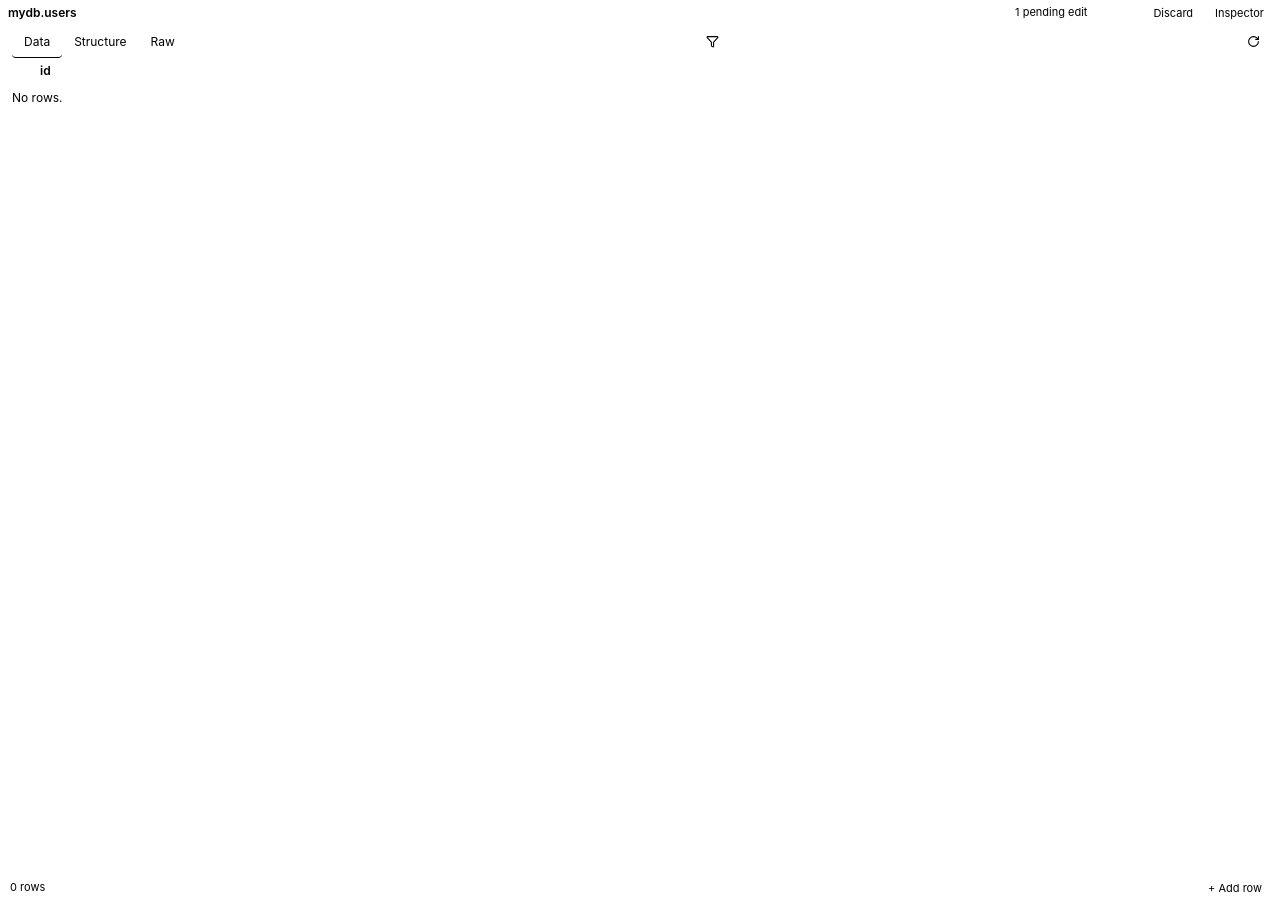
Test case: MysqlTableViewerTab — guarded refresh › cancelling the dialog leaves the buffer intact and does not refresh
Press r in the element named "users data"
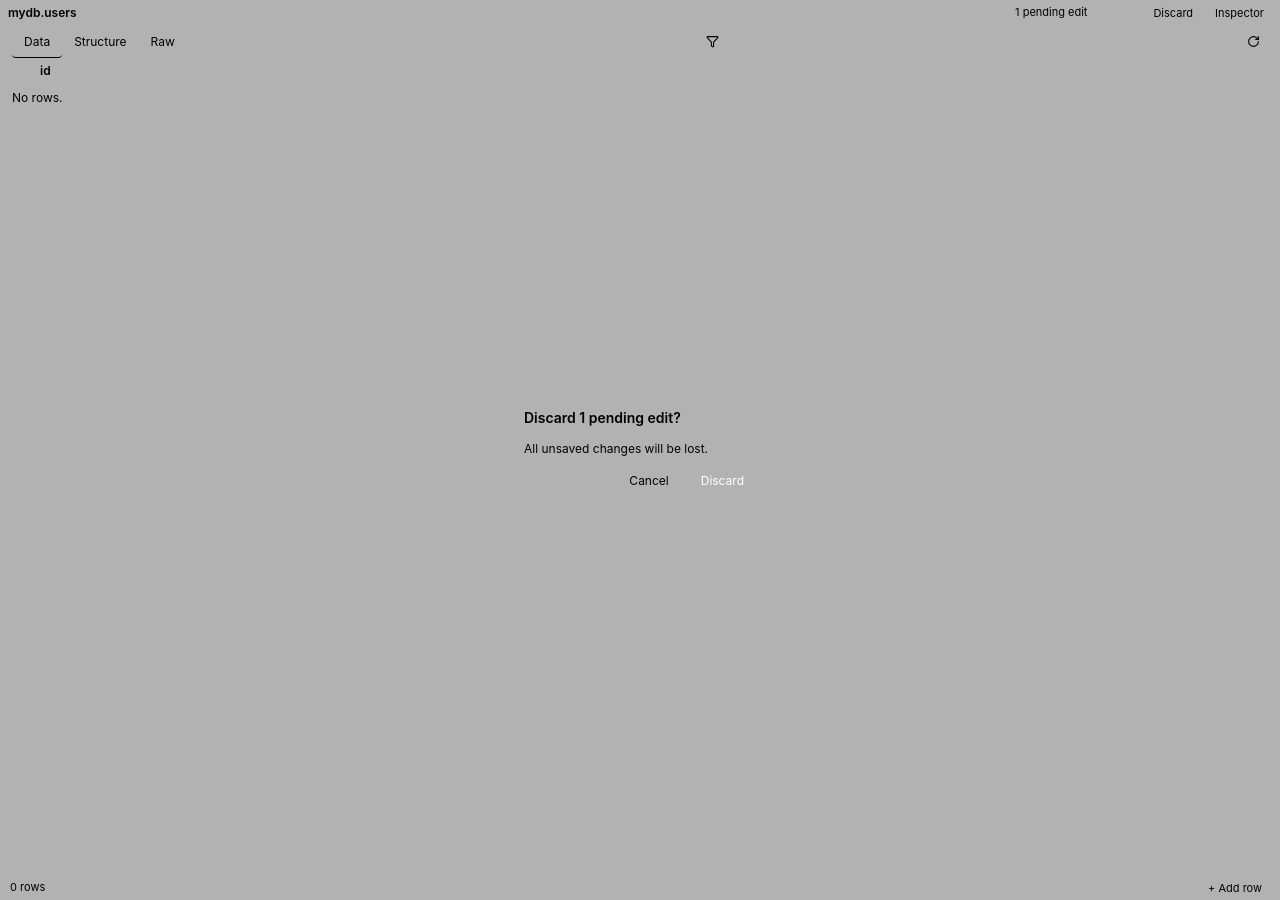
Dialog is shown — click Cancel
Click the button "Cancel" at (649, 481), box [617,469,681,492]
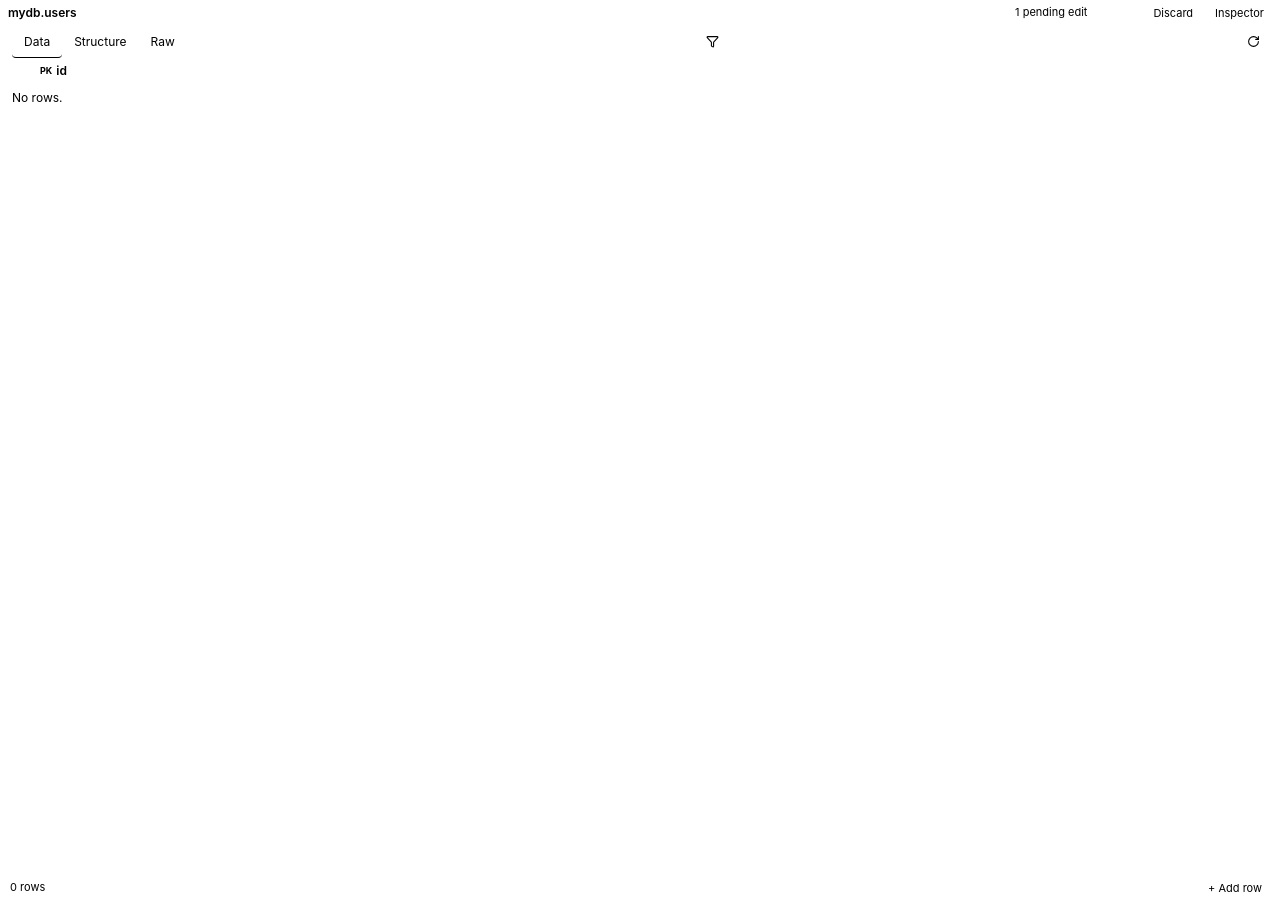
Check: the text "Discard 1 pending edit?" is gone
